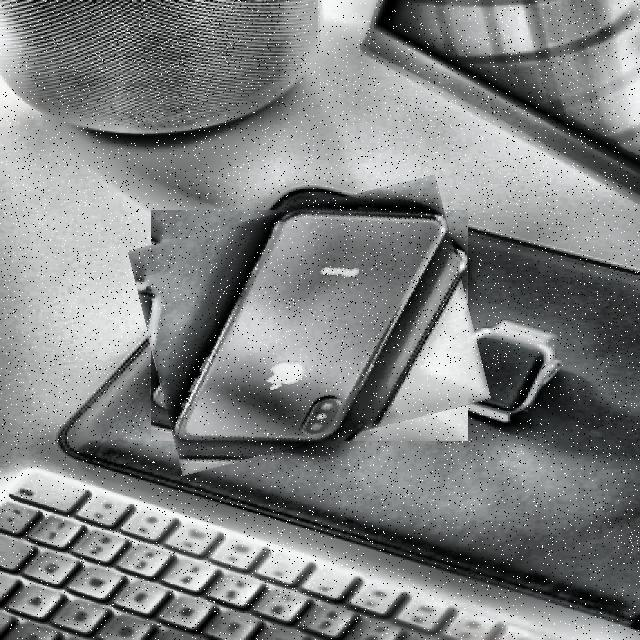Phone: (138, 192, 480, 459)
